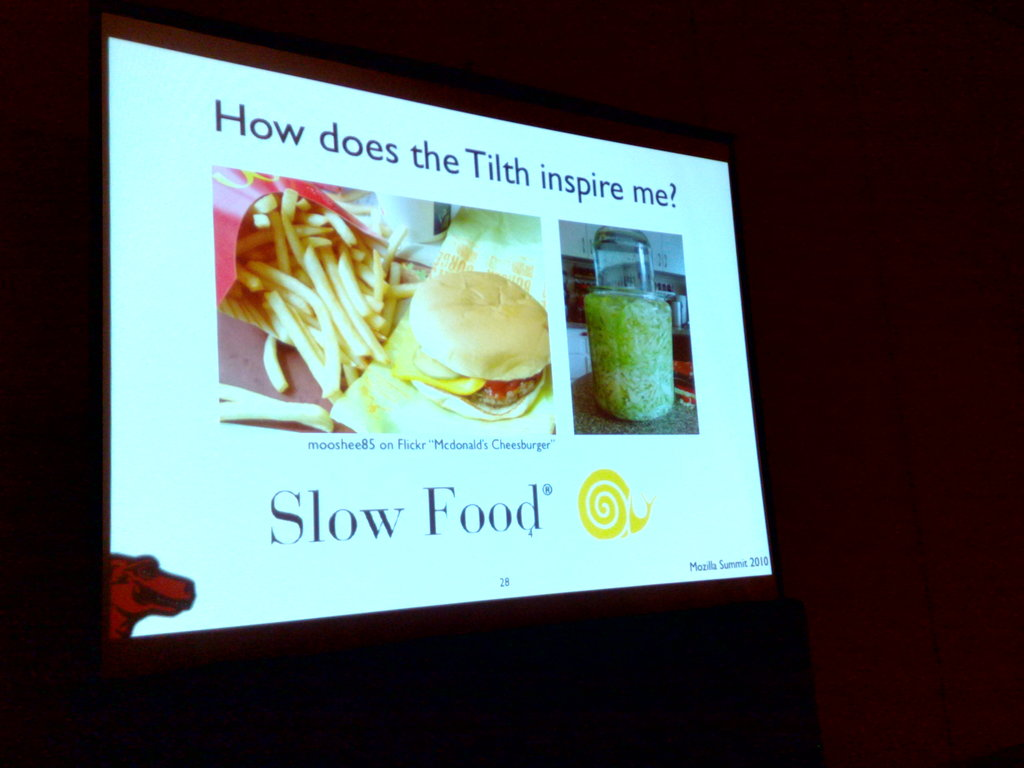French fries: (224, 181, 431, 394)
